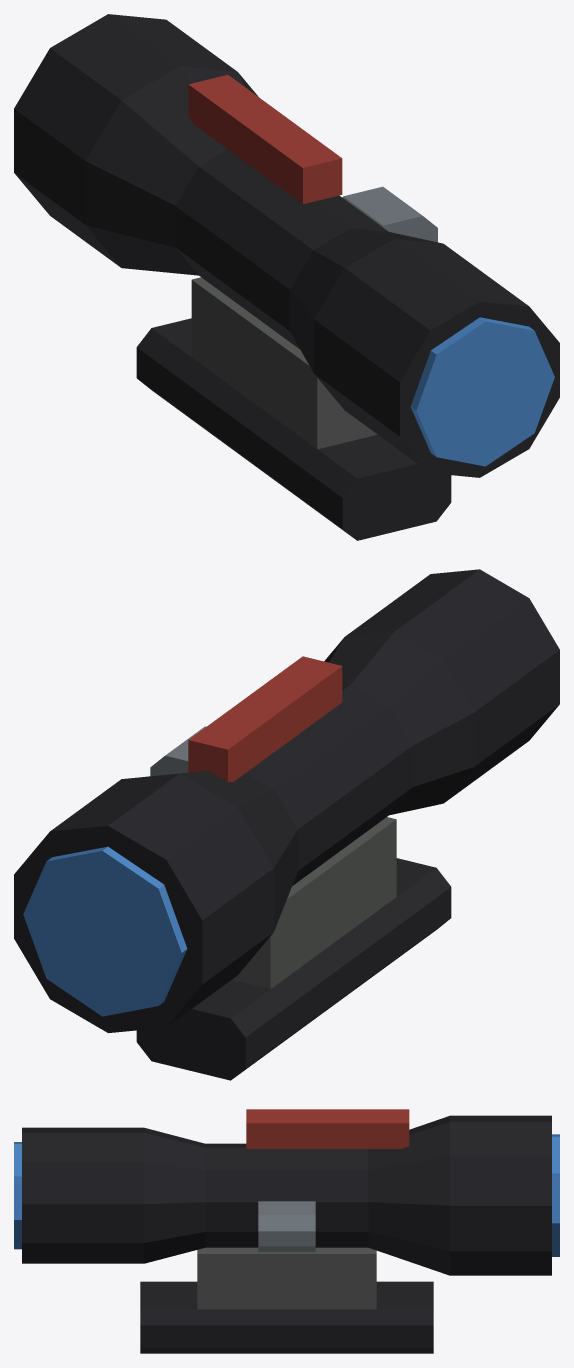
File: scope_2x.glb
The picture shows the model from 3 angles, top to bottom: view 1: azimuth 30°, elevation 25°; view 2: azimuth 150°, elevation 25°; view 3: azimuth 270°, elevation 25°; orthographic projection. The views are drawn at different scales.
Visible parts, largest first — view 1: scope_2x; view 2: scope_2x; view 3: scope_2x.
Part boxes in pixels (x1,y1,x2,y2): scope_2x: (14,14,559,540); scope_2x: (14,569,559,1080); scope_2x: (14,1109,559,1353).
Bounding box in the file's own units: 0.044 × 0.0605 × 0.134.
1 material, 1 textured.
